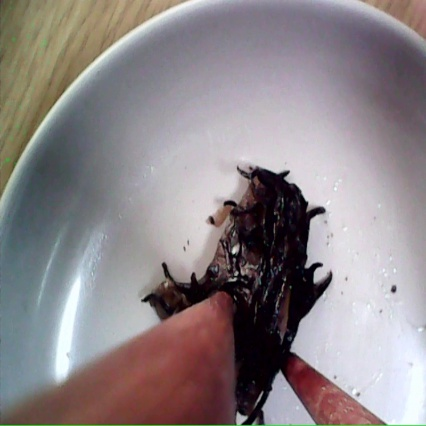black_hijiki: (198, 167, 342, 426)
